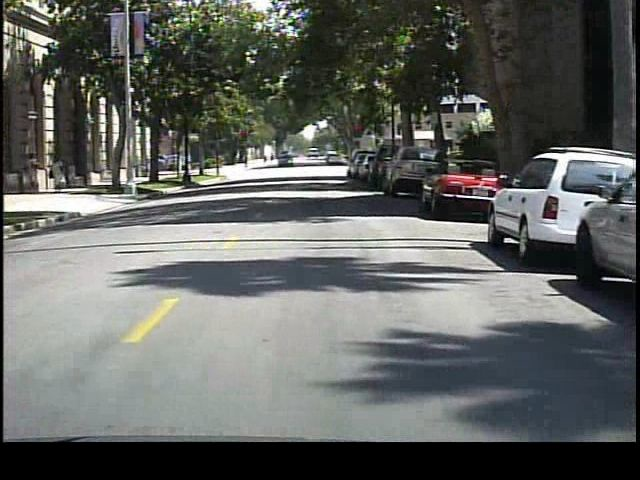person: (44, 152, 70, 194), (25, 149, 46, 192)
